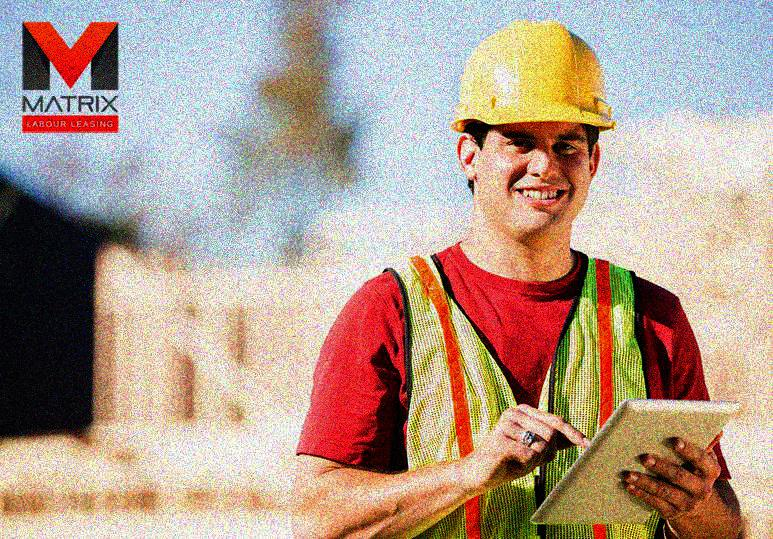helmet: (451, 15, 618, 243)
